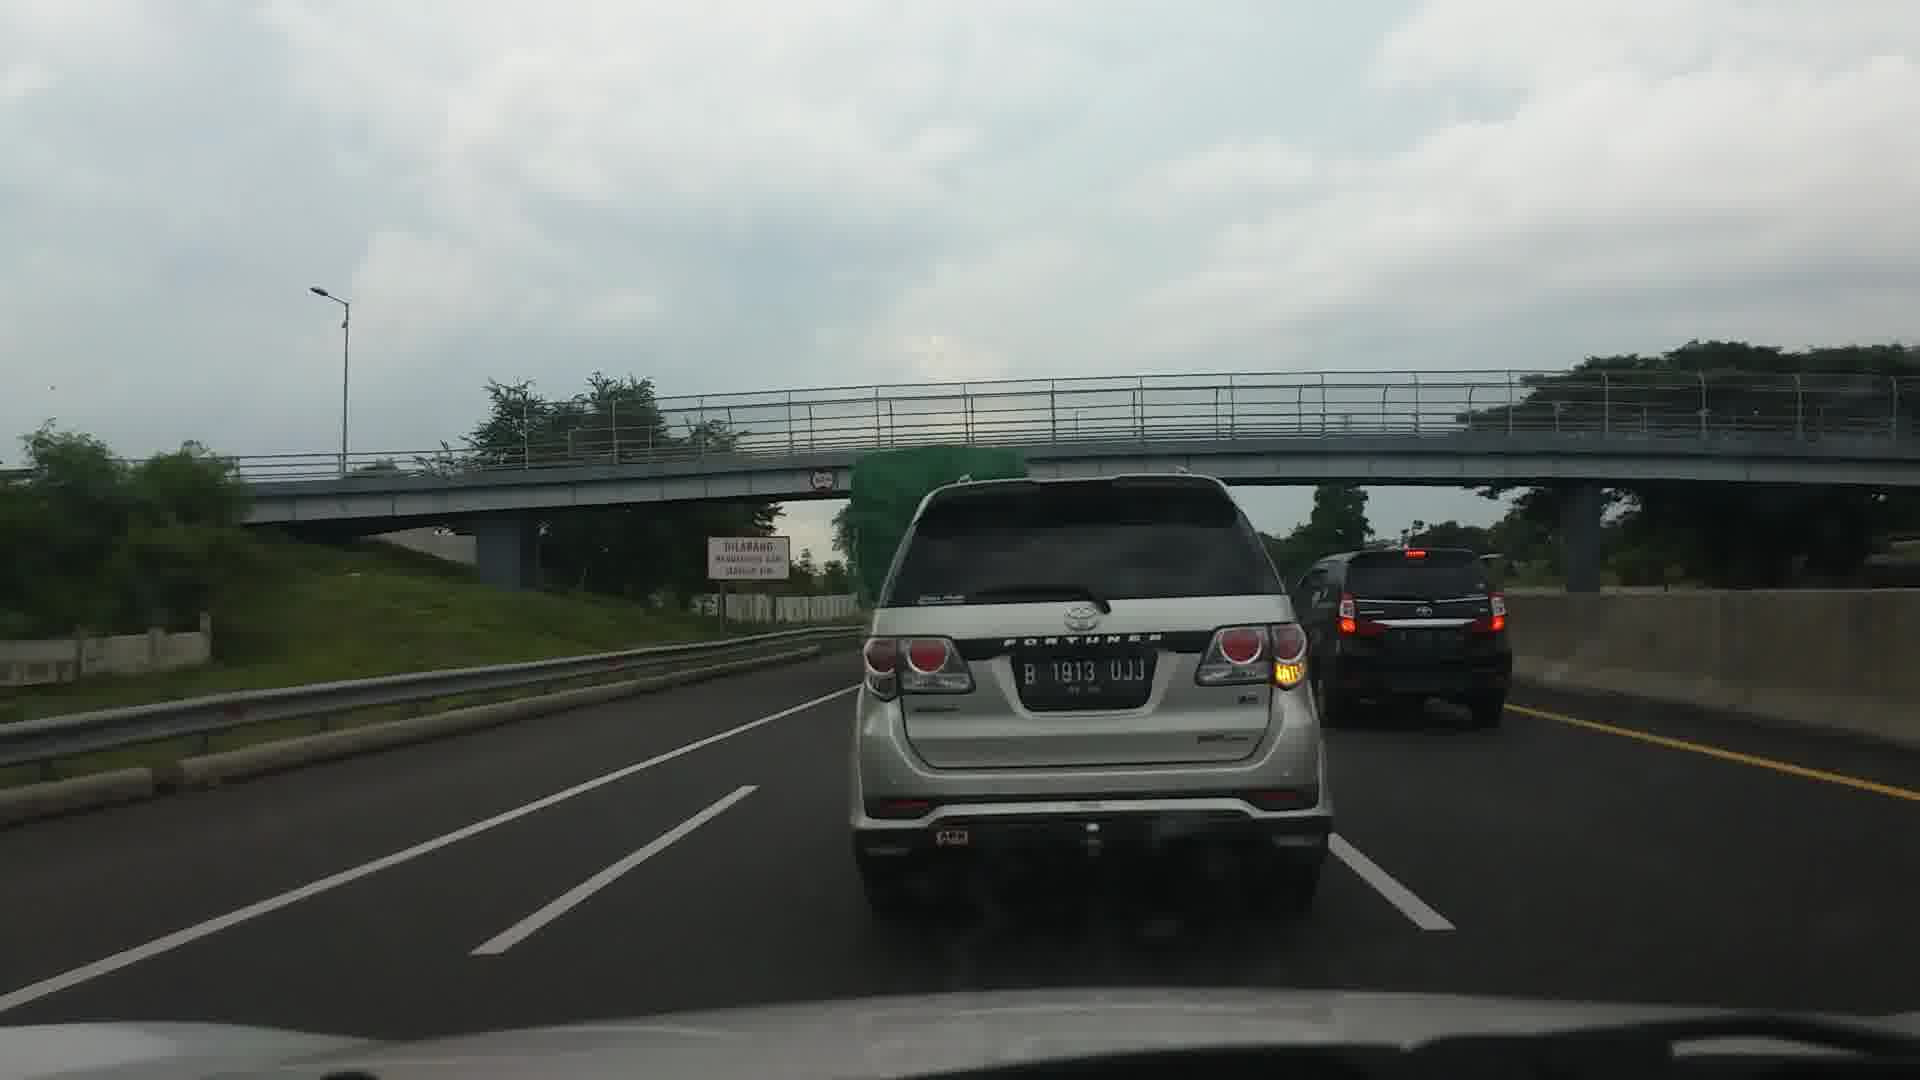plate_positive: (1019, 654, 1147, 698)
